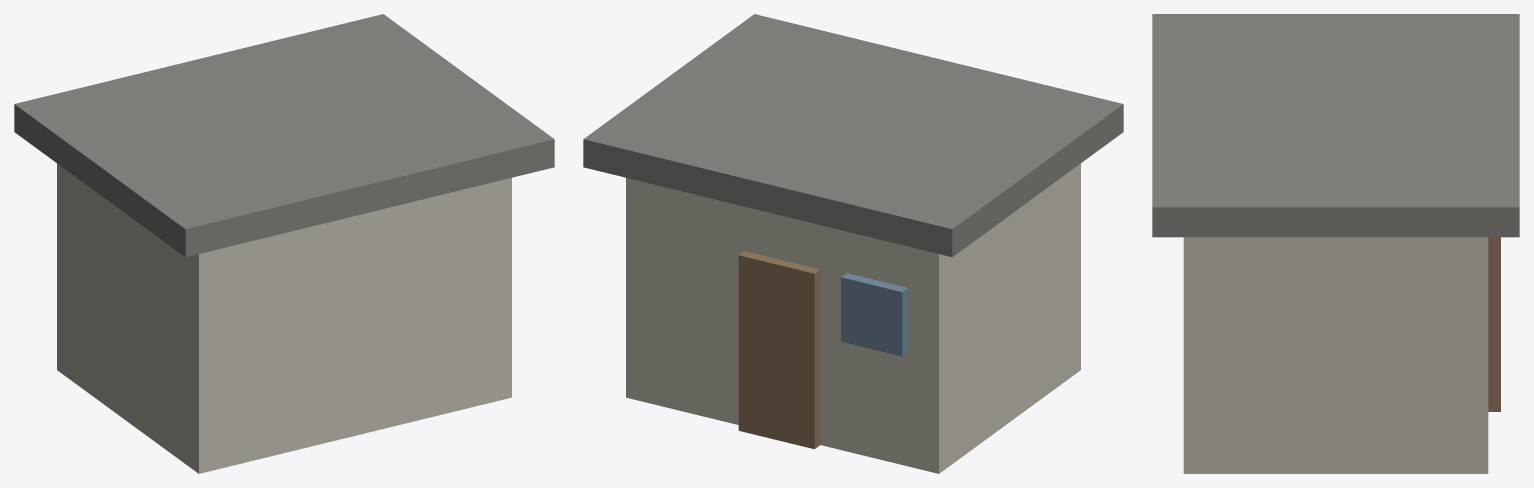
Rendered from roadside_hut.glb.
3 renders of one model, left to right at view 1: azimuth 30°, elevation 25°; view 2: azimuth 150°, elevation 25°; view 3: azimuth 270°, elevation 25°, orthographic. The views are drawn at different scales.
Visible parts, largest first — view 1: roadside_hut; view 2: roadside_hut; view 3: roadside_hut.
Part boxes in pixels (<box>): roadside_hut: <box>14,14,554,473</box>; roadside_hut: <box>583,14,1123,473</box>; roadside_hut: <box>1152,14,1519,473</box>.
Bounding box in the file's own units: 3.3 × 2.24 × 2.65.
Materials: 4 (4 with a texture image).
